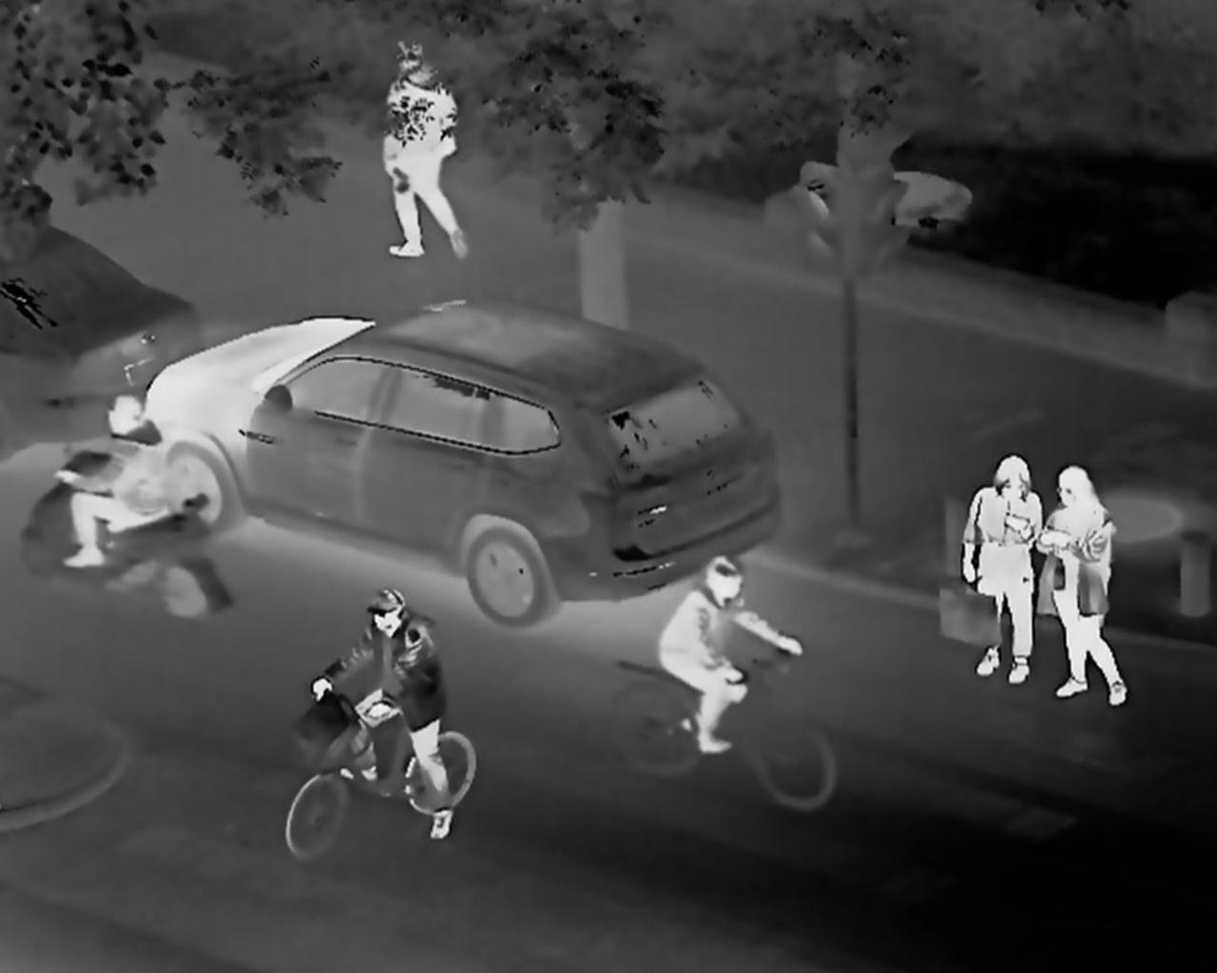person: (668, 549, 803, 749), (1046, 443, 1135, 725), (380, 34, 483, 268), (94, 382, 216, 563), (350, 602, 457, 782), (959, 448, 1034, 700)
